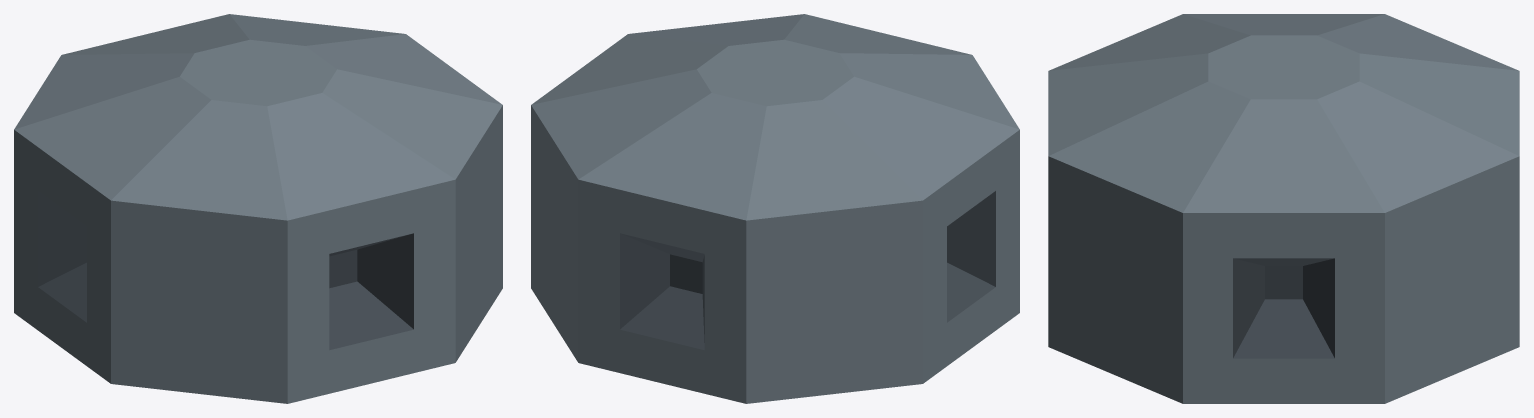
Rendered from pillbox.fbx.
3 renders of one model, left to right at view 1: azimuth 30°, elevation 25°; view 2: azimuth 150°, elevation 25°; view 3: azimuth 270°, elevation 25°, orthographic. The views are drawn at different scales.
Visible parts, largest first — view 1: pillbox; view 2: pillbox; view 3: pillbox.
Boxes of the visible parts, x1,y1,x2,y2 form: pillbox: (14, 14, 502, 403); pillbox: (531, 14, 1019, 403); pillbox: (1048, 14, 1519, 403).
Size of the model in its own units: 175 by 97.15 by 175.
